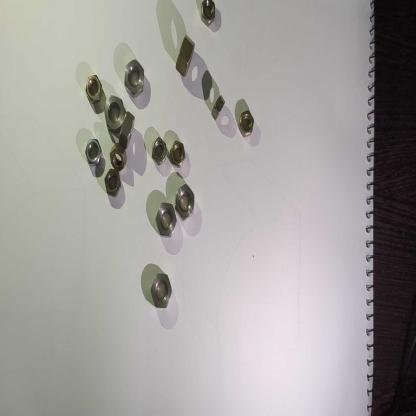NUTS: (147, 267, 173, 313), (121, 58, 148, 100), (173, 180, 197, 226), (103, 91, 126, 137), (176, 29, 196, 80), (233, 107, 256, 148), (154, 200, 176, 242), (116, 108, 137, 148), (84, 73, 106, 108), (149, 134, 169, 170), (199, 0, 221, 31), (168, 135, 188, 169), (101, 166, 123, 194), (85, 136, 104, 168), (207, 94, 227, 124), (108, 142, 127, 172)
